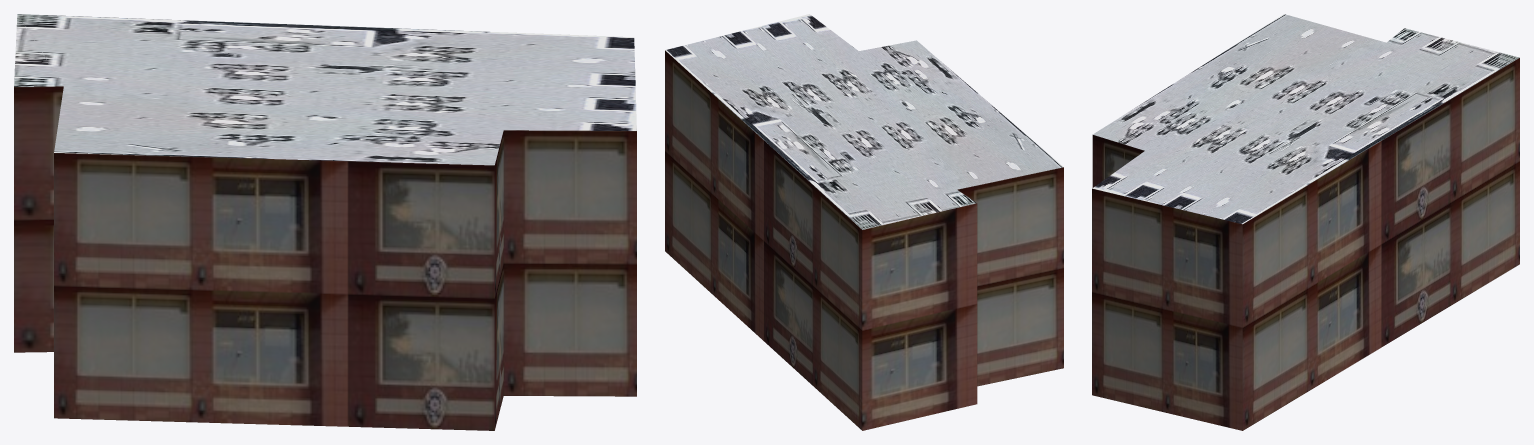
Rendered from ResTex__3332.fbx.
3 renders of one model, left to right at view 1: azimuth 30°, elevation 25°; view 2: azimuth 150°, elevation 25°; view 3: azimuth 270°, elevation 25°, orthographic. The views are drawn at different scales.
Parts seen in each view (by area): view 1: CityEngineMaterial_13_m, CityEngineMaterial_2_m; view 2: CityEngineMaterial_13_m, CityEngineMaterial_2_m; view 3: CityEngineMaterial_13_m, CityEngineMaterial_2_m.
Boxes of the visible parts, left/top/right/bottom form: CityEngineMaterial_13_m: left=14, top=86, right=636, bottom=430; CityEngineMaterial_2_m: left=14, top=14, right=636, bottom=165; CityEngineMaterial_13_m: left=665, top=50, right=1063, bottom=430; CityEngineMaterial_2_m: left=665, top=14, right=1063, bottom=229; CityEngineMaterial_13_m: left=1092, top=58, right=1519, bottom=430; CityEngineMaterial_2_m: left=1092, top=14, right=1519, bottom=224.
Size of the model in its own units: 13.09 by 6 by 11.26.
2 materials, 2 textured.
